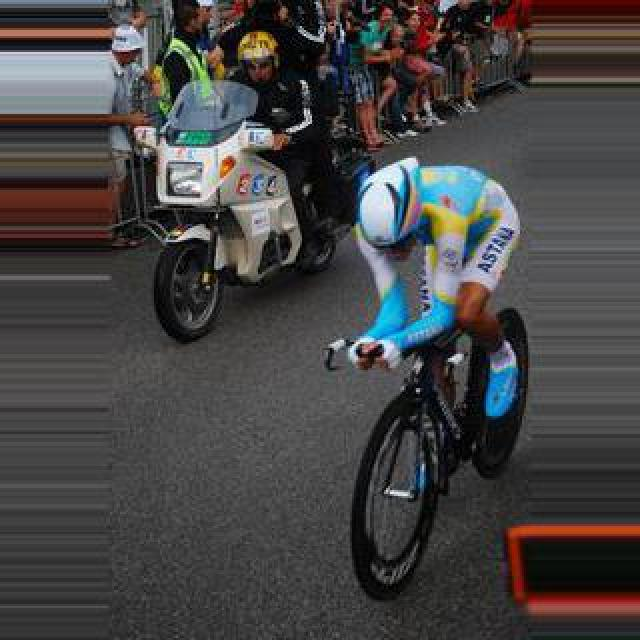Emergency Vehicles-Bike: (140, 74, 340, 344)
MC-Bike: (334, 140, 528, 354), (224, 28, 336, 264), (158, 0, 224, 110)
Person: (344, 302, 524, 600)
